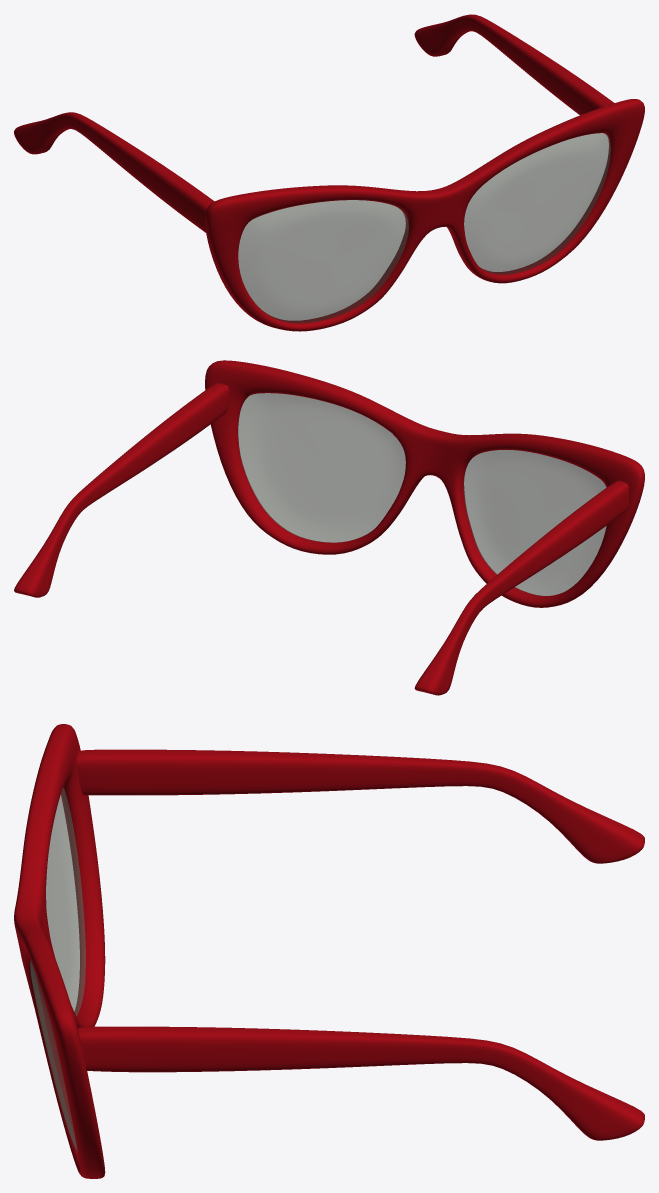
The model's file is glasses-6.glb.
3 views of the same model, one above another, from view 1: azimuth 30°, elevation 25°; view 2: azimuth 150°, elevation 25°; view 3: azimuth 270°, elevation 25° (orthographic). The views are drawn at different scales.
Parts seen in each view (by area): view 1: glasses, frame, bow_left, bow_right; view 2: glasses, frame, bow_right, bow_left; view 3: bow_left, bow_right, frame, glasses.
Boxes of the visible parts, x1,y1,x2,y2 form: glasses: (238,133,610,323); frame: (205,99,644,331); bow_left: (14,112,214,232); bow_right: (414,14,614,115); glasses: (238,393,606,595); frame: (205,360,644,607); bow_right: (14,383,229,597); bow_left: (414,480,628,695); bow_left: (76,749,644,863); bow_right: (78,1026,644,1140); frame: (14,724,105,1178); glasses: (30,787,85,1152).
Bounding box in the file's own units: 18.56 × 6.51 × 16.4.
